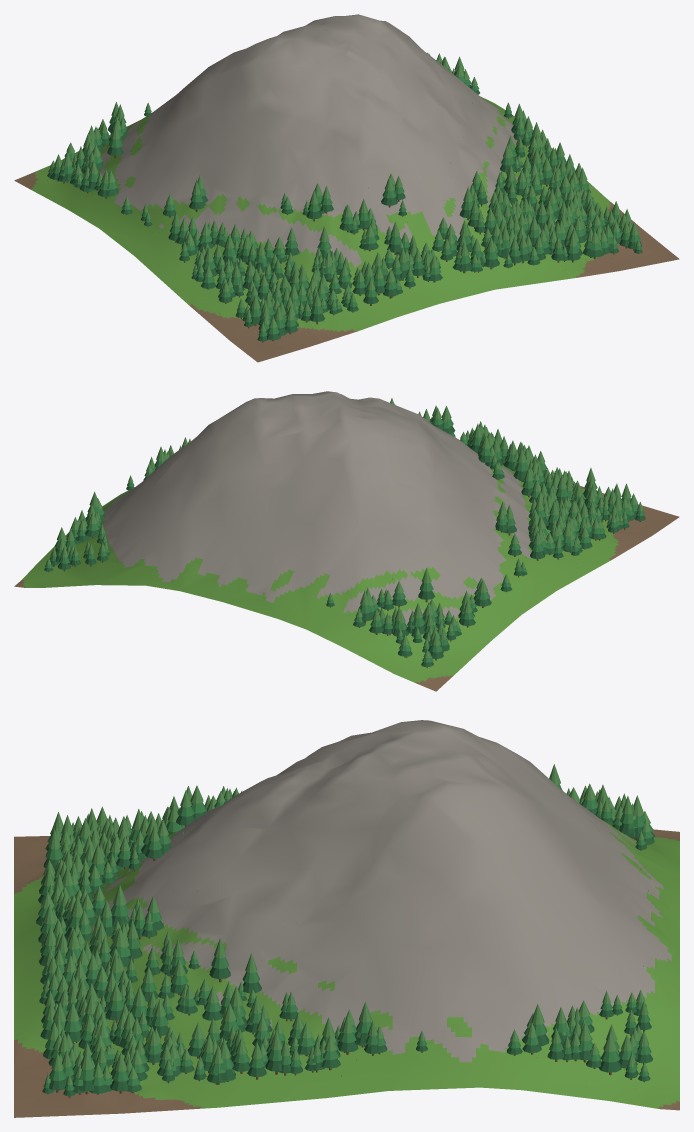
File: mountain_hiking_trail.glb
3 renders of one model, top to bottom at view 1: azimuth 30°, elevation 25°; view 2: azimuth 150°, elevation 25°; view 3: azimuth 270°, elevation 25°, orthographic. The views are drawn at different scales.
Visible parts, largest first — view 1: NATURAL MOUNTAIN; view 2: NATURAL MOUNTAIN; view 3: NATURAL MOUNTAIN.
Boxes of the visible parts, bbox=[...] form: NATURAL MOUNTAIN: bbox=[14, 14, 679, 362]; NATURAL MOUNTAIN: bbox=[14, 391, 679, 691]; NATURAL MOUNTAIN: bbox=[14, 720, 679, 1117].
Bounding box in the file's own units: 120 × 46.06 × 120.
